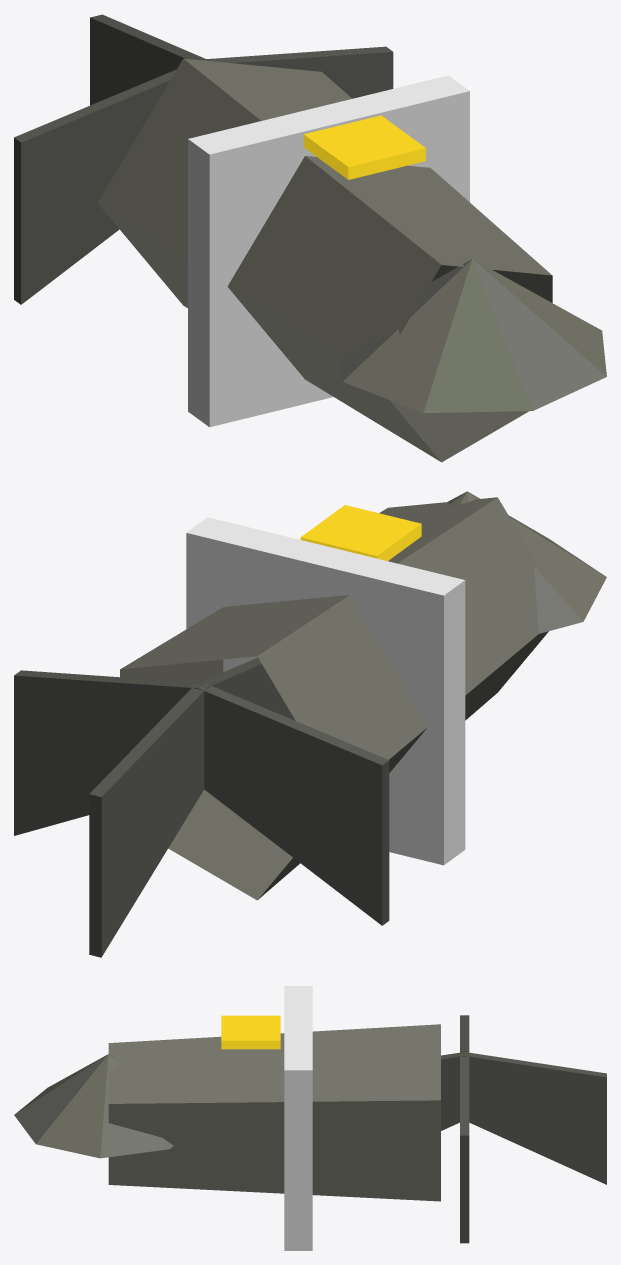
Rendered from Atomic Bomber.glb.
The picture shows the model from 3 angles, top to bottom: view 1: azimuth 30°, elevation 25°; view 2: azimuth 150°, elevation 25°; view 3: azimuth 270°, elevation 25°; orthographic projection. The views are drawn at different scales.
Parts seen in each view (by area): view 1: Units_Atomic Bomber; view 2: Units_Atomic Bomber; view 3: Units_Atomic Bomber.
Part boxes in pixels (left/top/right/bottom): Units_Atomic Bomber: left=14, top=14, right=606, bottom=462; Units_Atomic Bomber: left=14, top=491, right=606, bottom=957; Units_Atomic Bomber: left=14, top=986, right=606, bottom=1250.
Bounding box in the file's own units: 0.12 × 0.084 × 0.2498.
